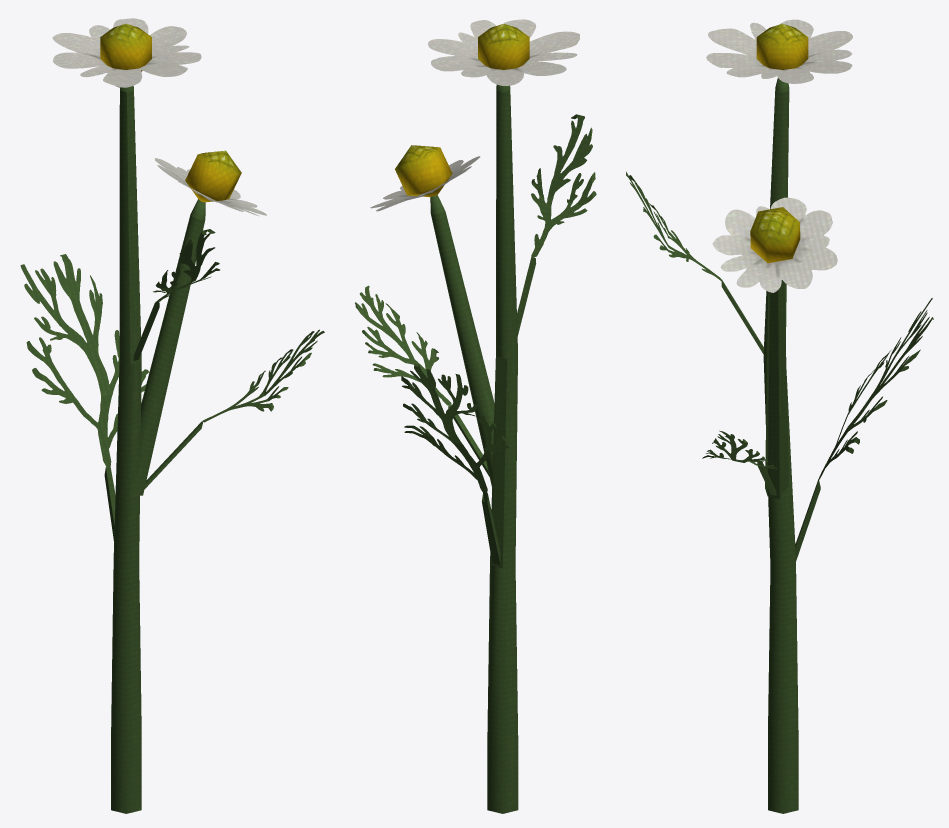
Rendered from Camomile.fbx.
The picture shows the model from 3 angles, left to right: view 1: azimuth 30°, elevation 25°; view 2: azimuth 150°, elevation 25°; view 3: azimuth 270°, elevation 25°; orthographic projection.
Parts seen in each view (by area): view 1: Cylinder021; view 2: Cylinder021; view 3: Cylinder021.
Part boxes in pixels (x1,y1,x2,y2): Cylinder021: (20, 18, 324, 813); Cylinder021: (355, 19, 596, 813); Cylinder021: (626, 19, 933, 813).
Size of the model in its own units: 50.57 by 152 by 54.45.
